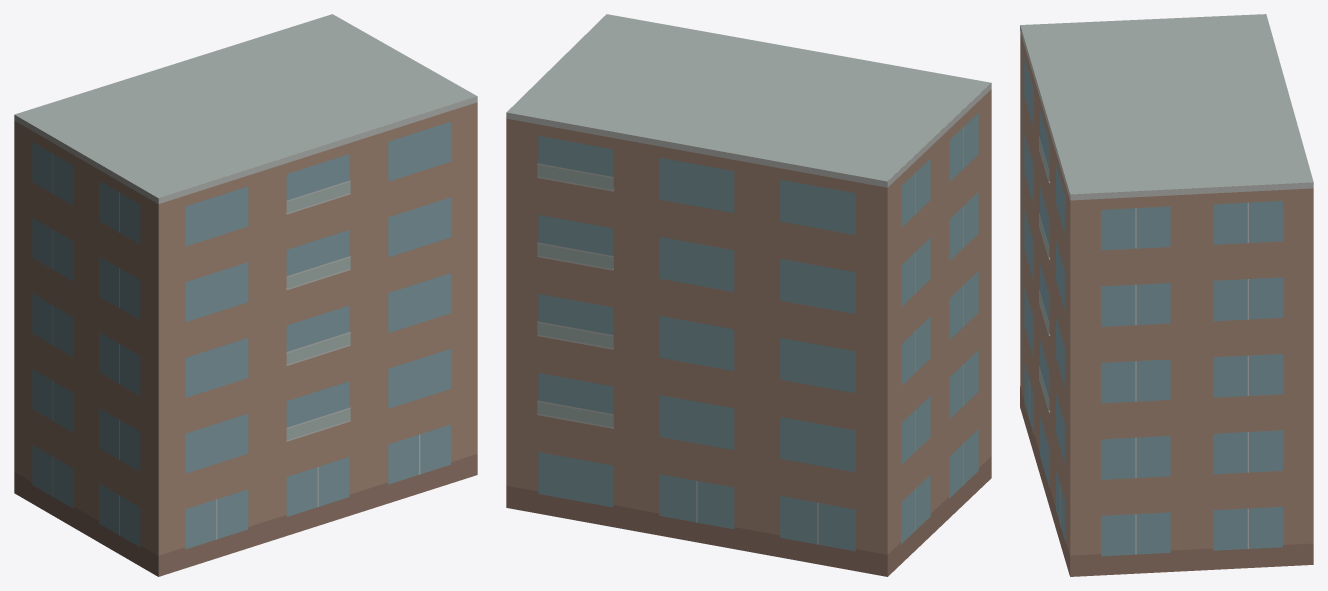
The model's file is survey-upis-32793203.glb.
The picture shows the model from 3 angles, left to right: view 1: azimuth 30°, elevation 25°; view 2: azimuth 150°, elevation 25°; view 3: azimuth 270°, elevation 25°; orthographic projection. The views are drawn at different scales.
Visible parts, largest first — view 1: survey-upis-32793203.tmp; view 2: survey-upis-32793203.tmp; view 3: survey-upis-32793203.tmp.
Part boxes in pixels (x1=…): survey-upis-32793203.tmp: x1=14, y1=14, x2=477, y2=576; survey-upis-32793203.tmp: x1=506, y1=14, x2=991, y2=576; survey-upis-32793203.tmp: x1=1020, y1=14, x2=1313, y2=576.
Bounding box in the file's own units: 15.8 × 15.6 × 10.86.
